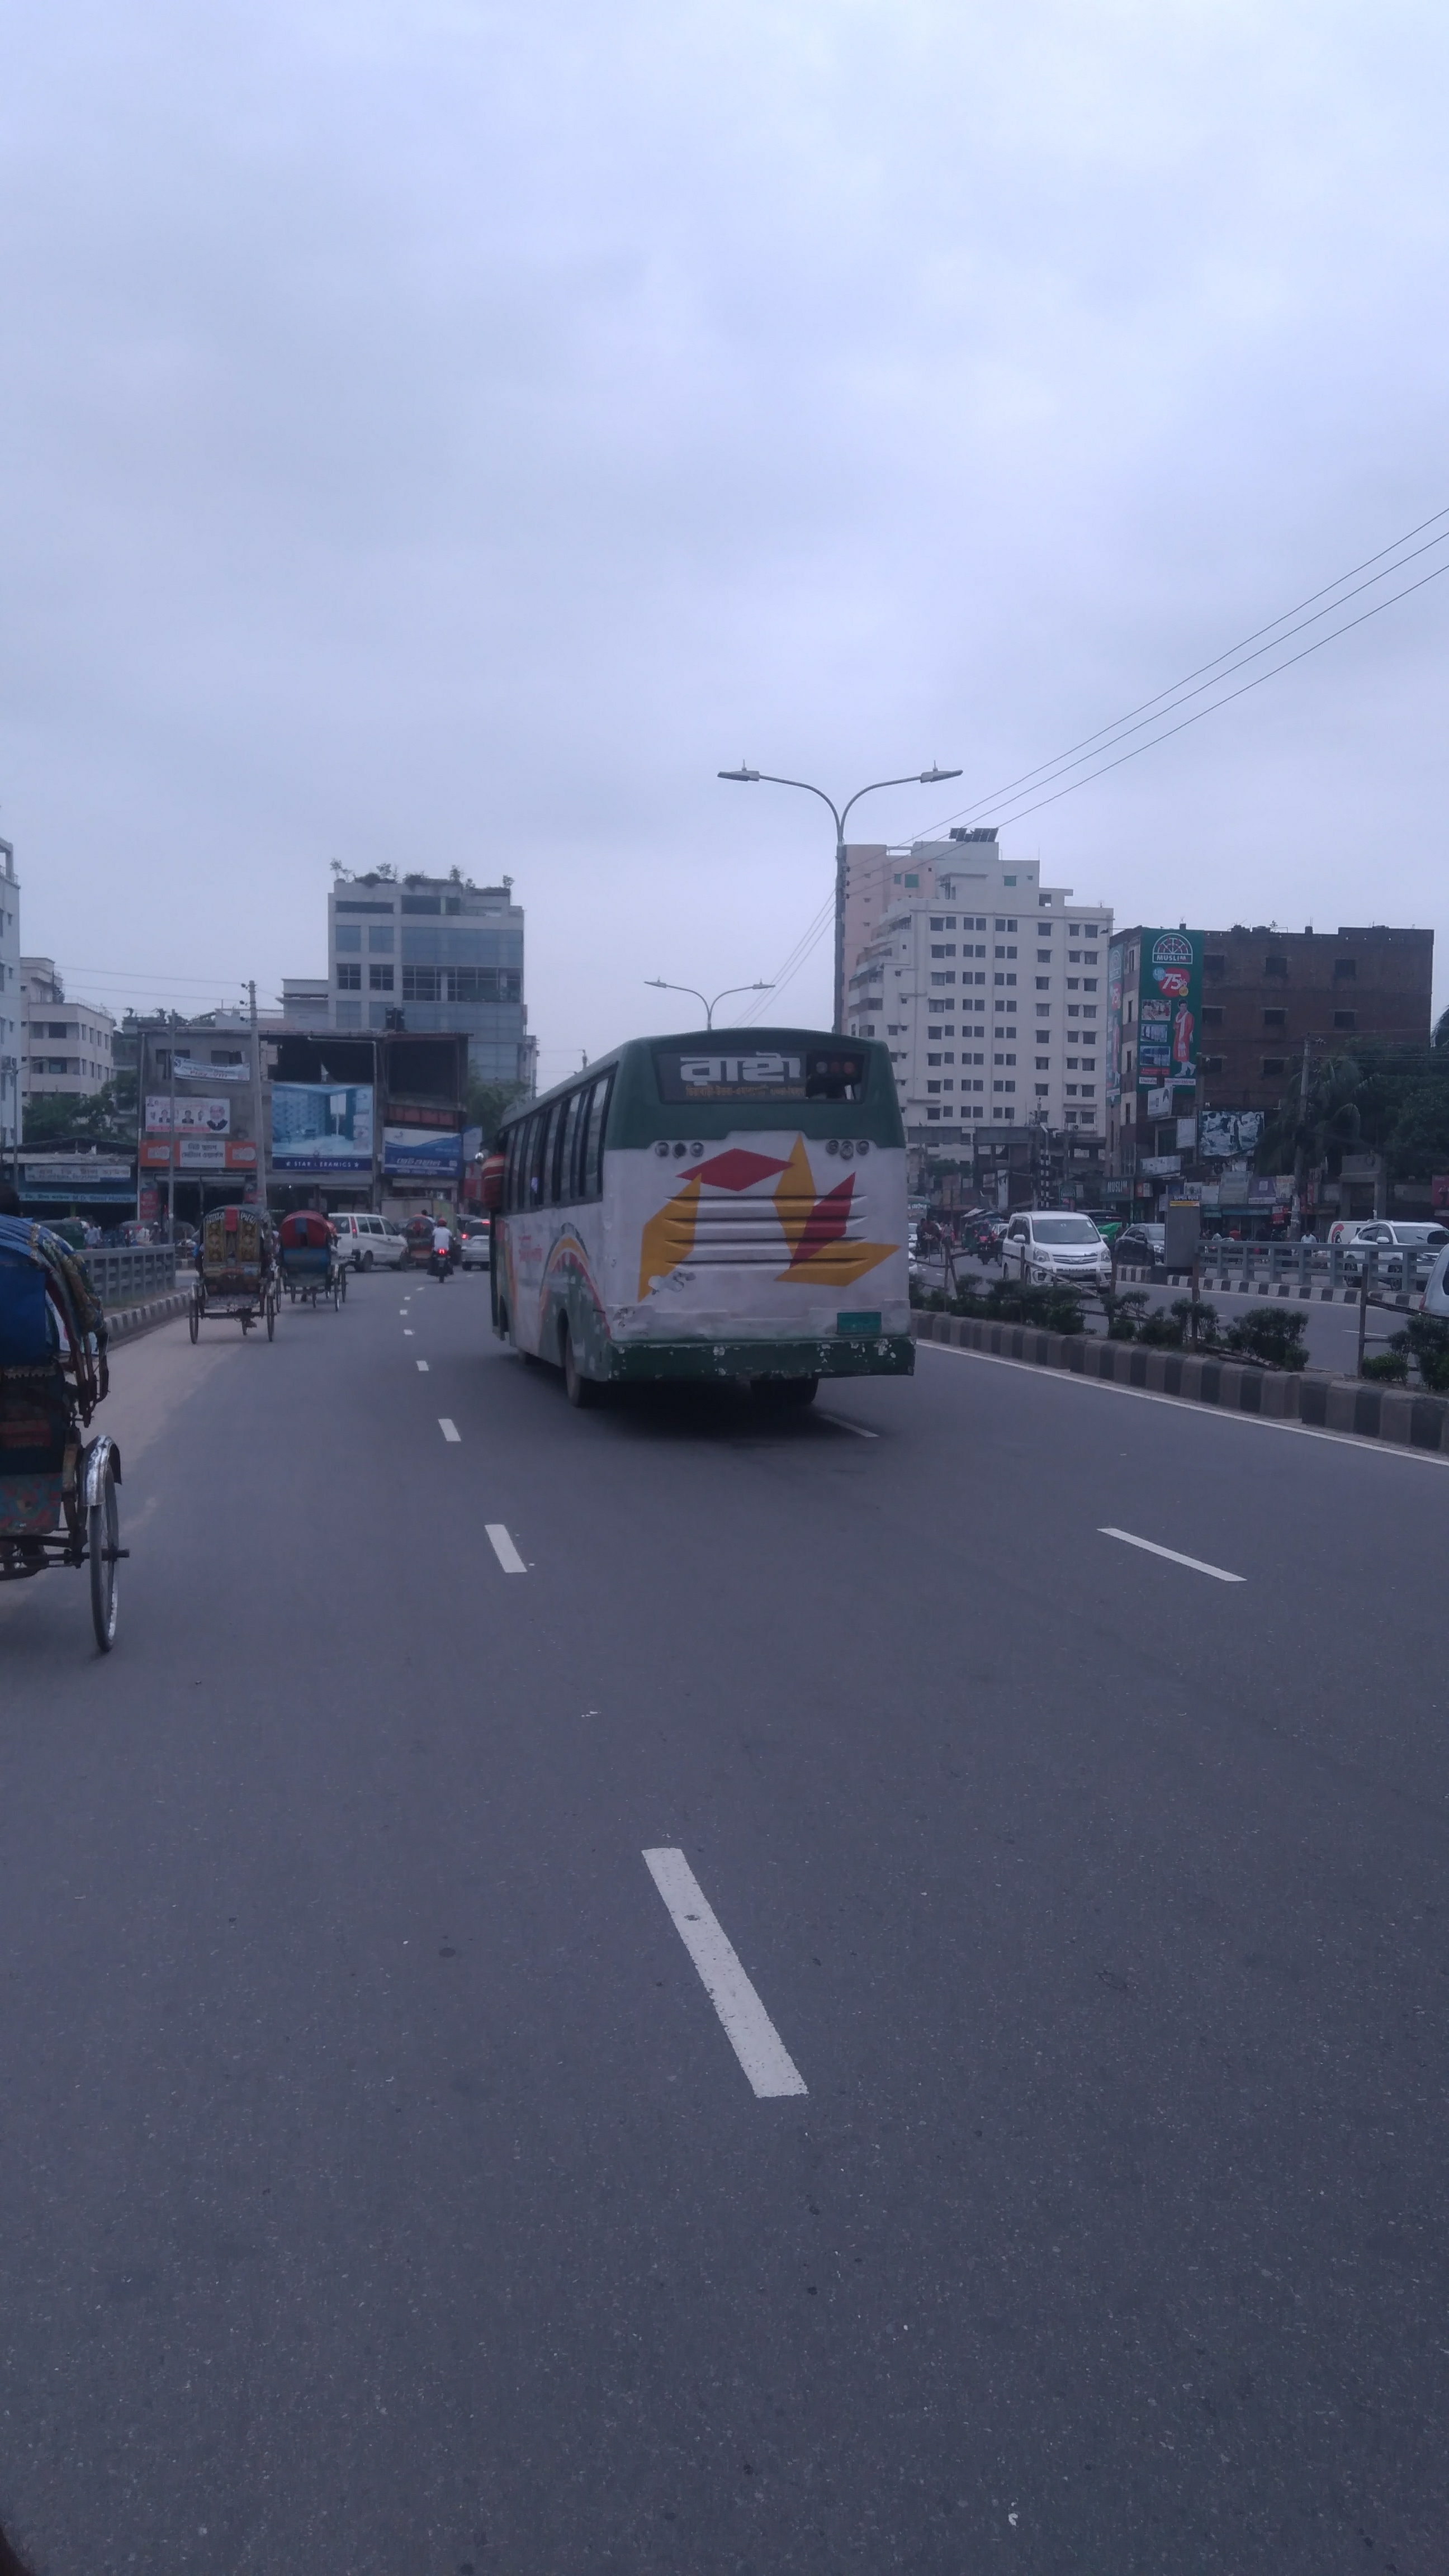bus: (488, 1023, 924, 1417)
car: (1000, 1201, 1120, 1299)
rickshaw: (0, 1210, 129, 1660), (177, 1198, 281, 1350), (285, 1210, 354, 1315)
